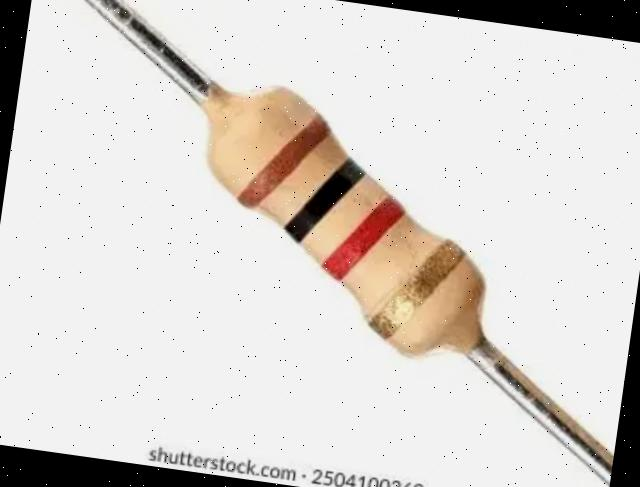black: (281, 156, 367, 244)
brown: (234, 114, 333, 210)
gold: (368, 238, 467, 340)
red: (321, 194, 409, 282)
resistor: (152, 35, 535, 401)
